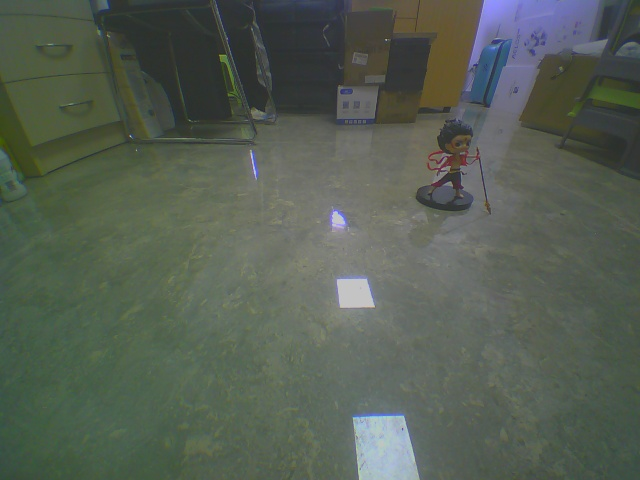Nezha: (415, 110, 500, 219)
